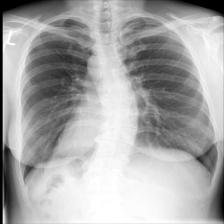normal: (17, 16, 222, 194)
